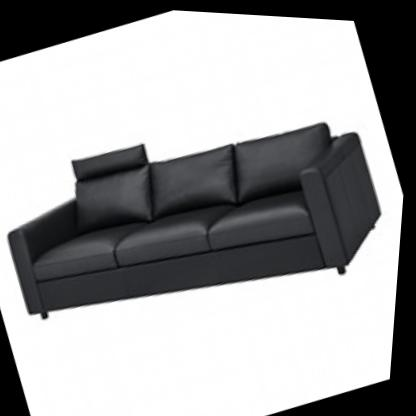Sofa: (0, 45, 413, 393)
